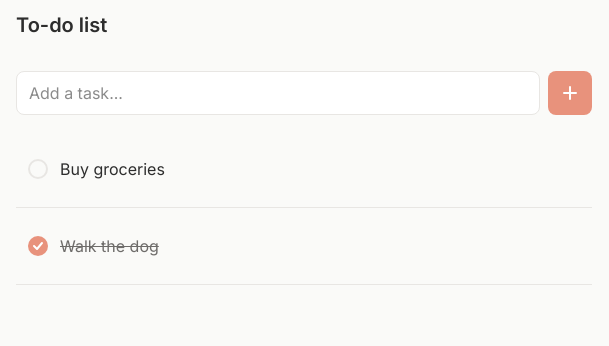
Test case: App › shows inline error when task creation fails
The image size is (609, 346).
Expected: the text "Buy groceries" is shown, [60, 159, 165, 179]
Type "Failing task" into the field with placeholder "Add a task..." at (278, 93), box [16, 71, 540, 115]
Then press Enter
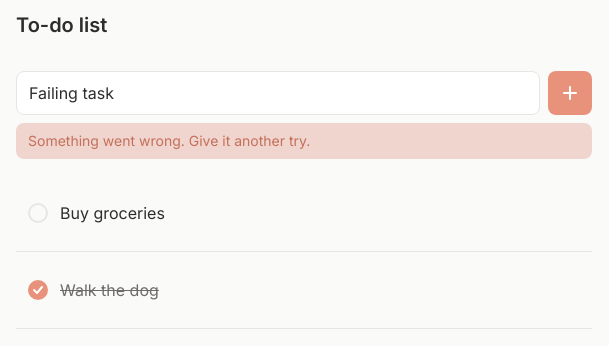
Expected: the text "Something went wrong. Give it another try." is shown, [16, 123, 592, 159]
